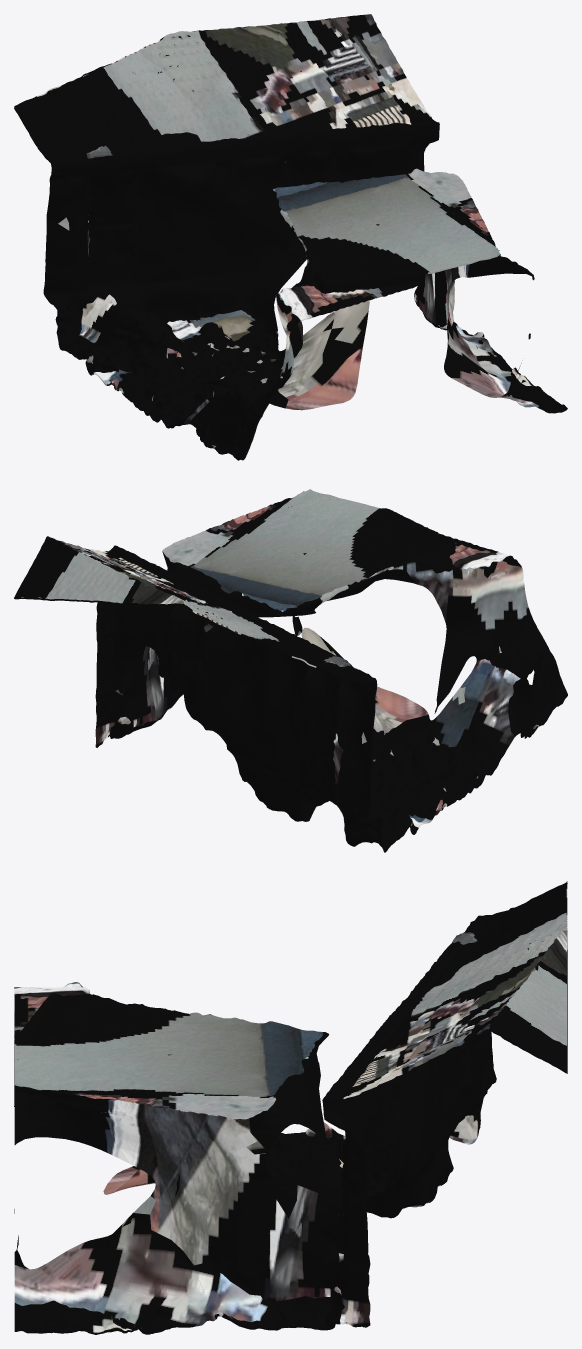
The picture shows the model from 3 angles, top to bottom: view 1: azimuth 30°, elevation 25°; view 2: azimuth 150°, elevation 25°; view 3: azimuth 270°, elevation 25°; orthographic projection. The views are drawn at different scales.
Visible parts, largest first — view 1: node_114; view 2: node_114; view 3: node_114.
Boxes of the visible parts, bbox=[...] form: node_114: bbox=[14, 14, 567, 460]; node_114: bbox=[14, 489, 567, 852]; node_114: bbox=[14, 881, 567, 1334].
Bounding box in the file's own units: 9.02 × 6.74 × 11.01.
Materials: 1 (1 with a texture image).
